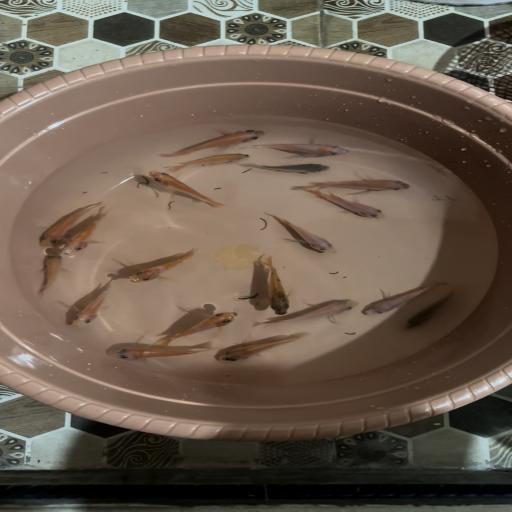nila: (258, 211, 342, 255), (254, 298, 359, 333), (211, 329, 313, 365), (360, 280, 449, 318), (158, 125, 266, 156), (293, 188, 388, 222), (30, 200, 100, 246), (123, 246, 203, 286), (147, 310, 241, 344), (59, 205, 118, 258), (61, 274, 120, 327), (144, 171, 226, 209), (251, 255, 296, 316), (399, 290, 458, 334), (105, 343, 216, 366), (166, 152, 250, 176), (250, 141, 358, 159), (31, 252, 68, 297), (294, 178, 411, 192), (241, 161, 334, 176)
